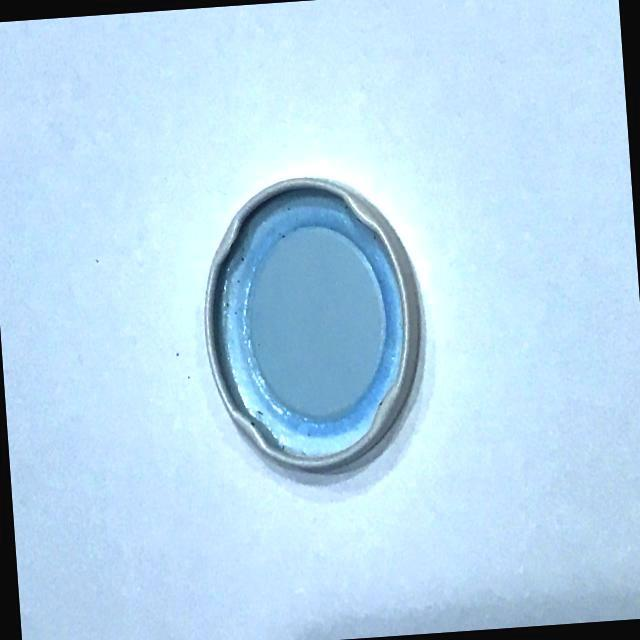metal: (182, 158, 458, 507)
